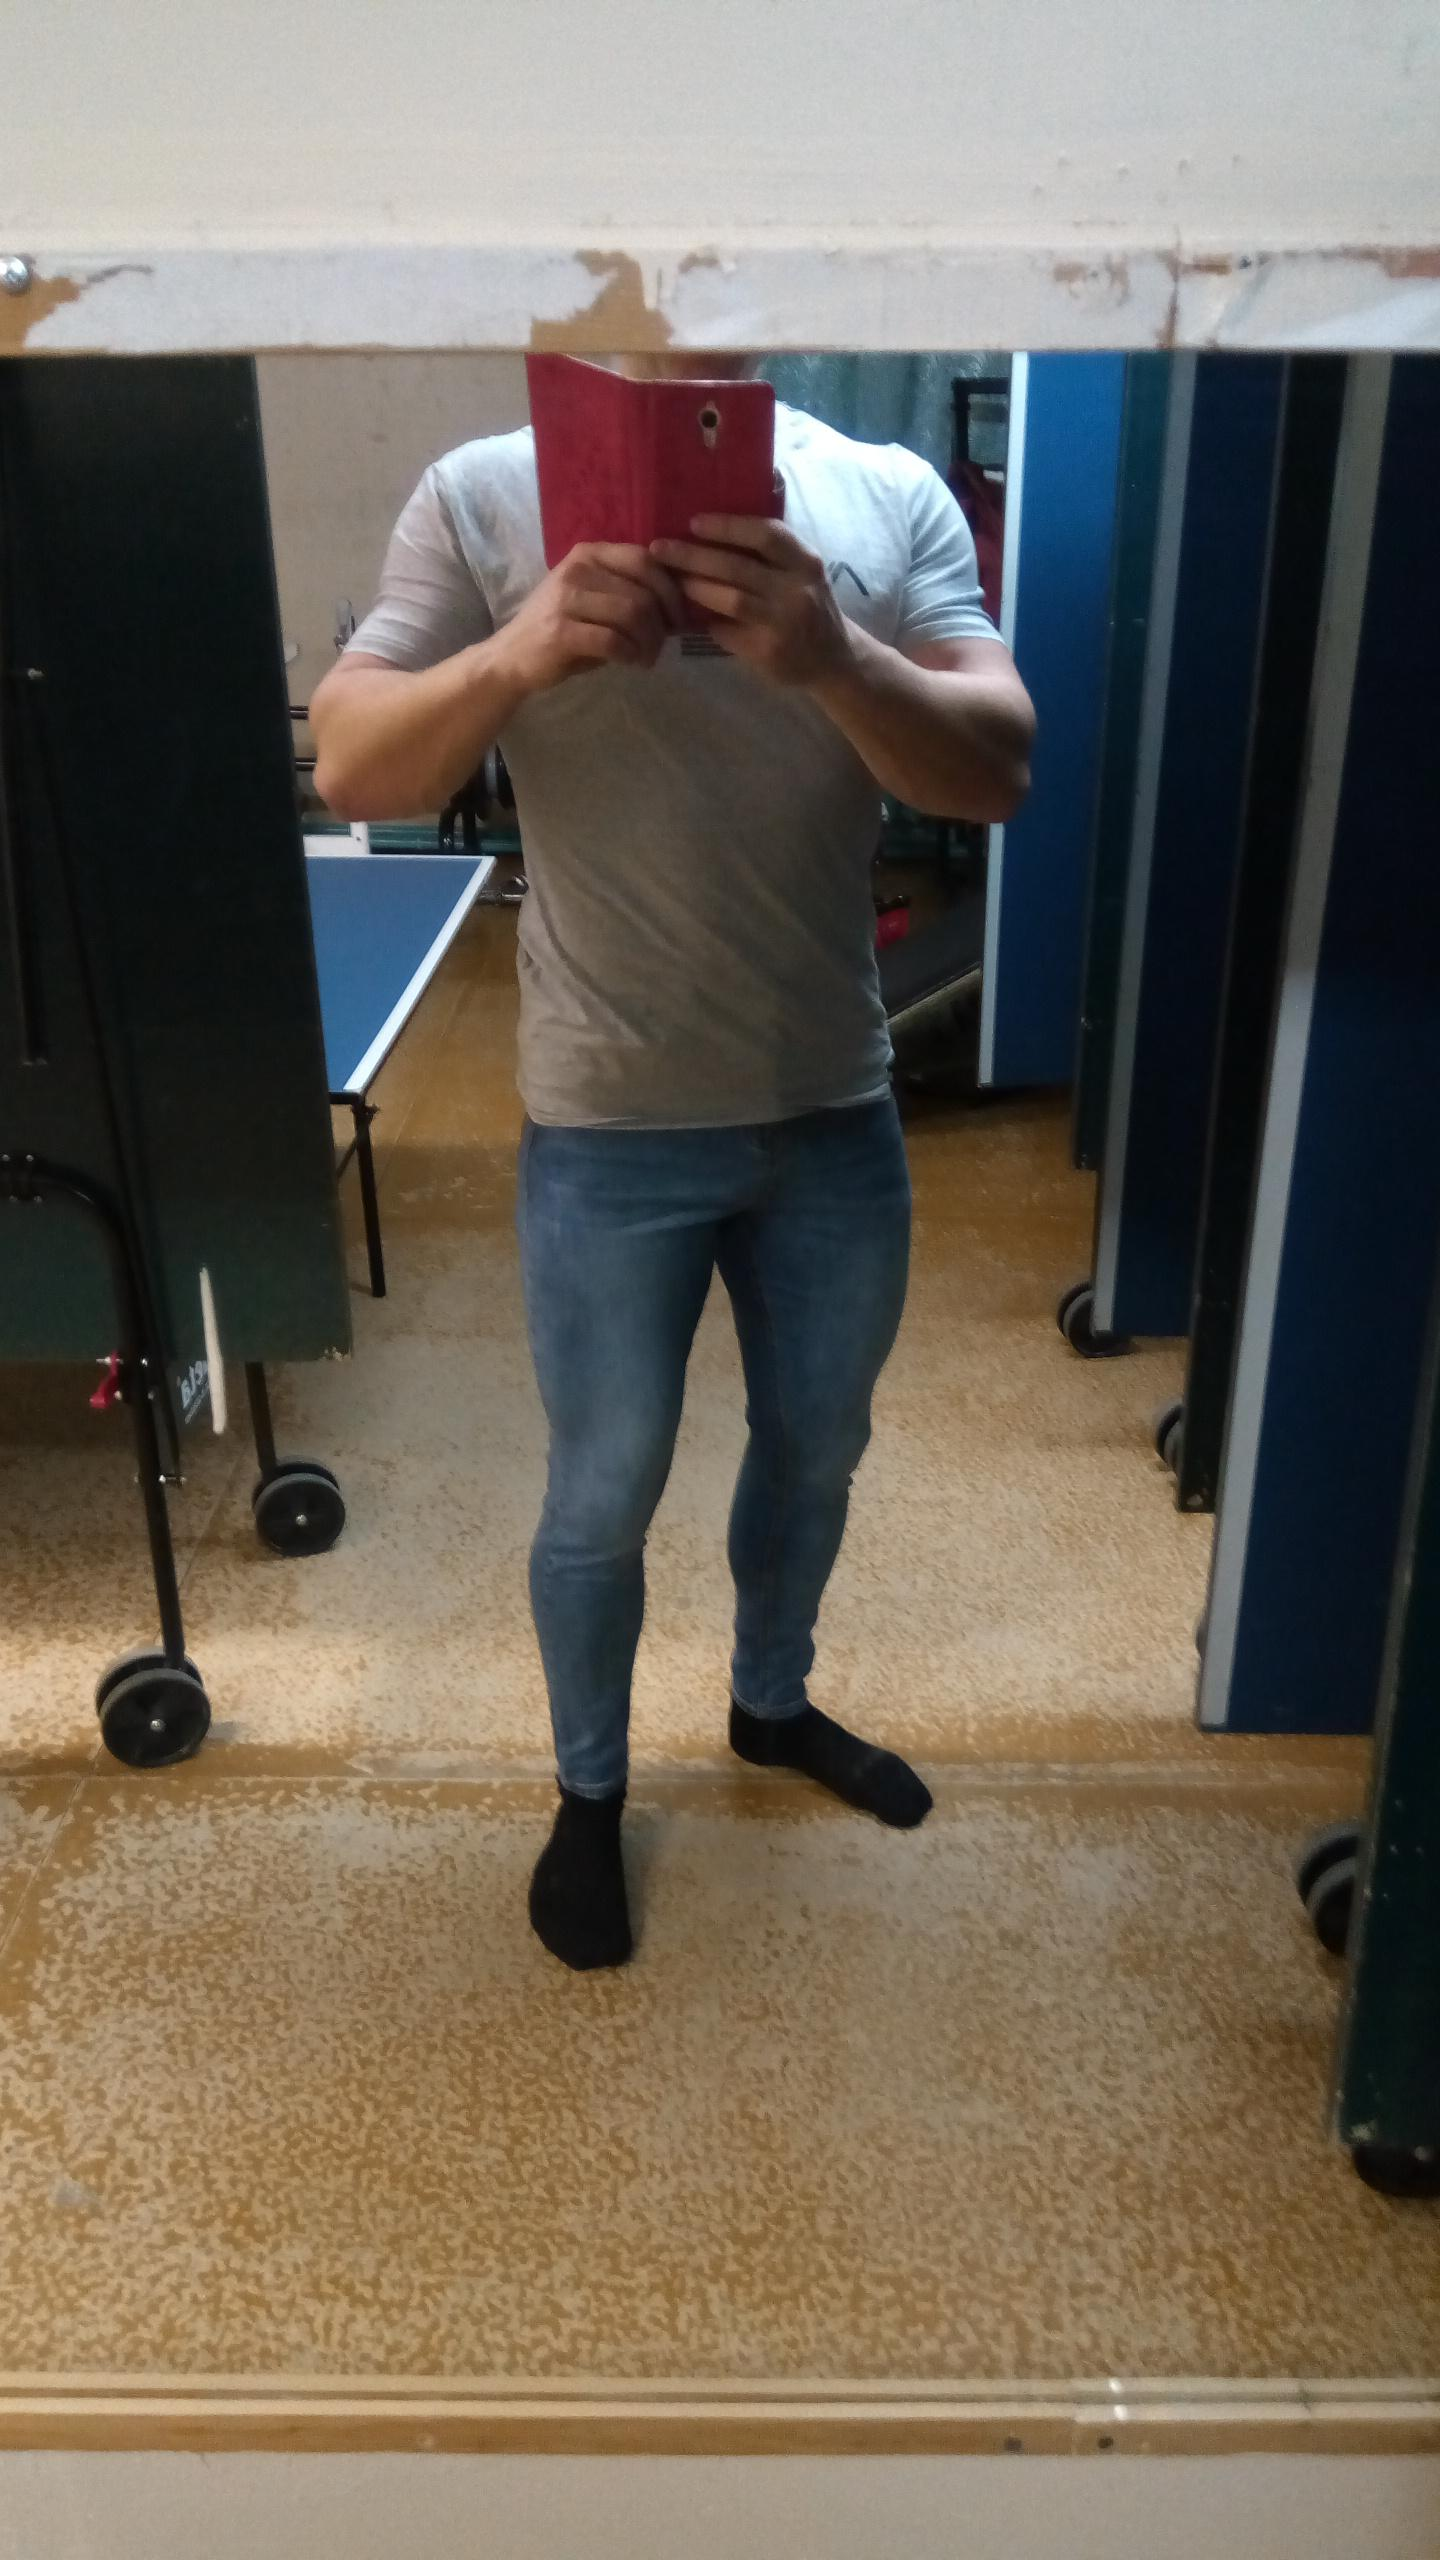jeans: (496, 1088, 911, 1807)
